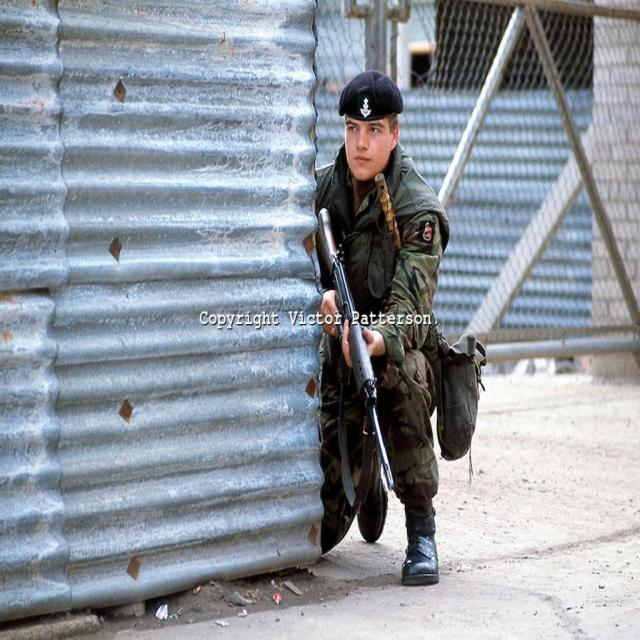Face: (342, 96, 398, 186)
